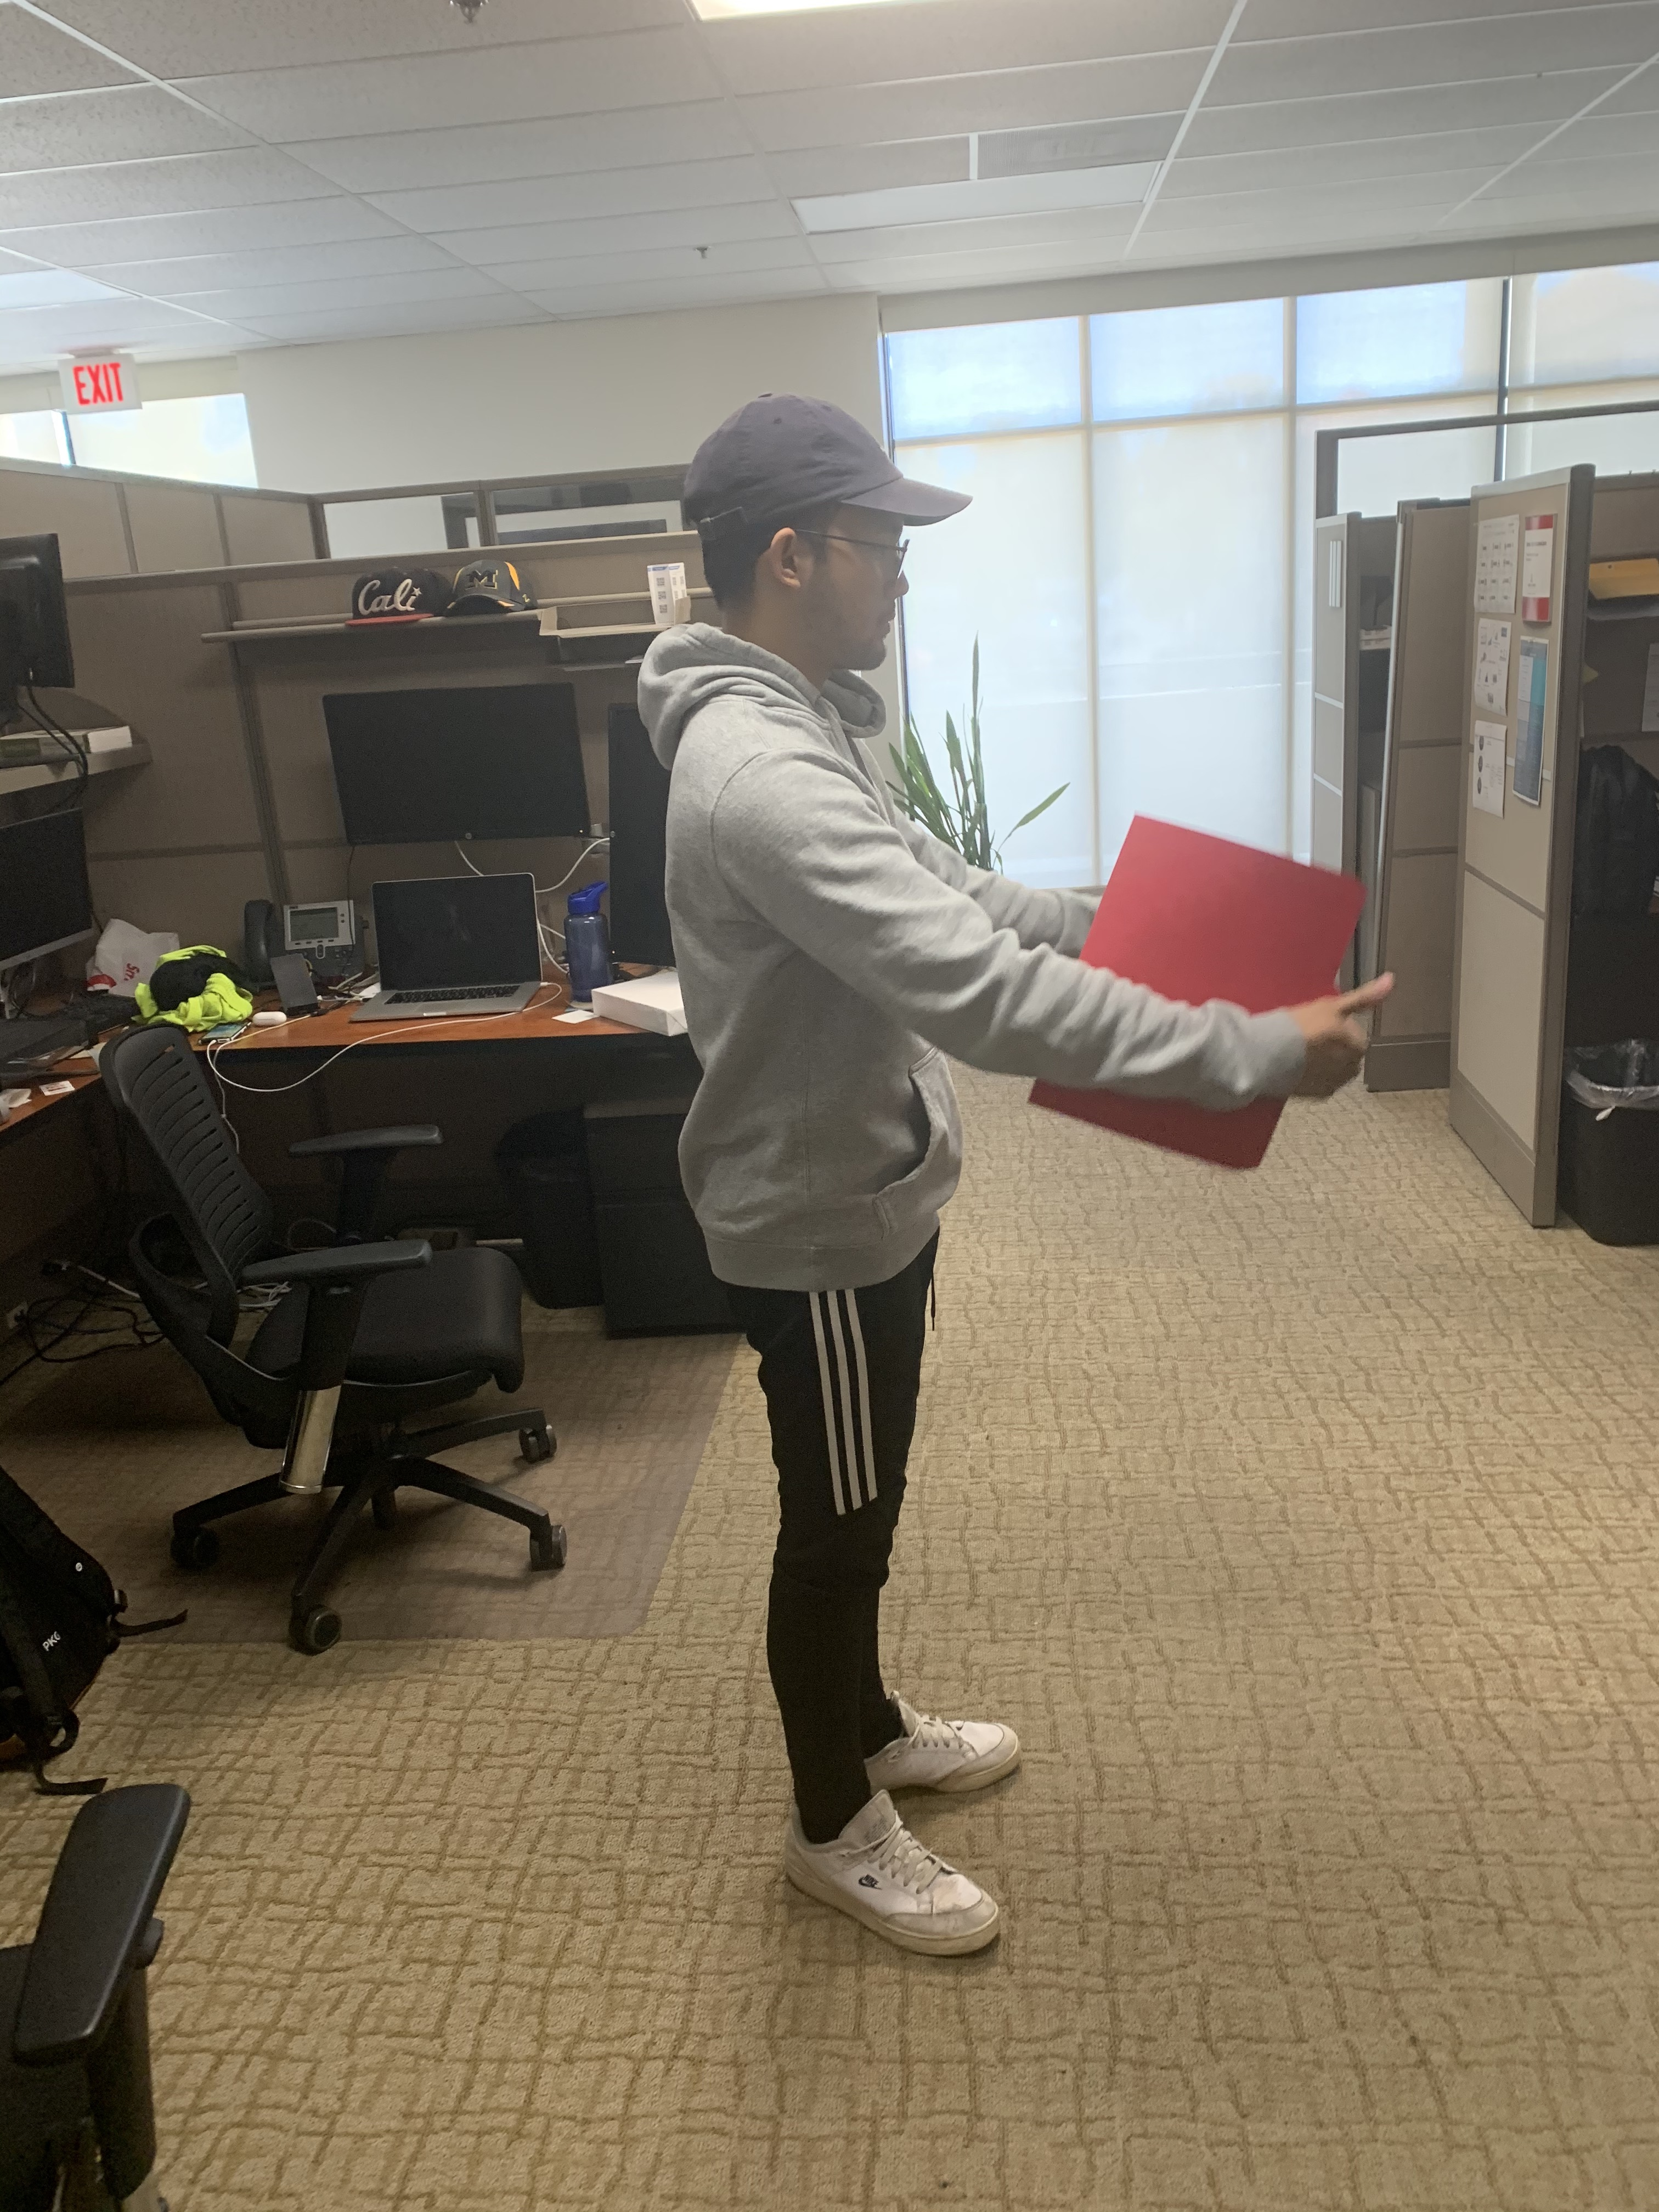red folder: (1021, 813, 1371, 1177)
